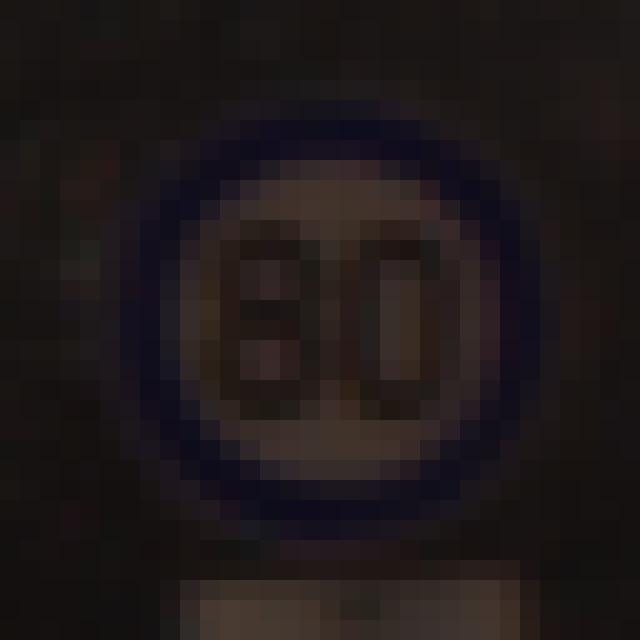SPEED-LIMIT-80: (128, 125, 536, 519)
